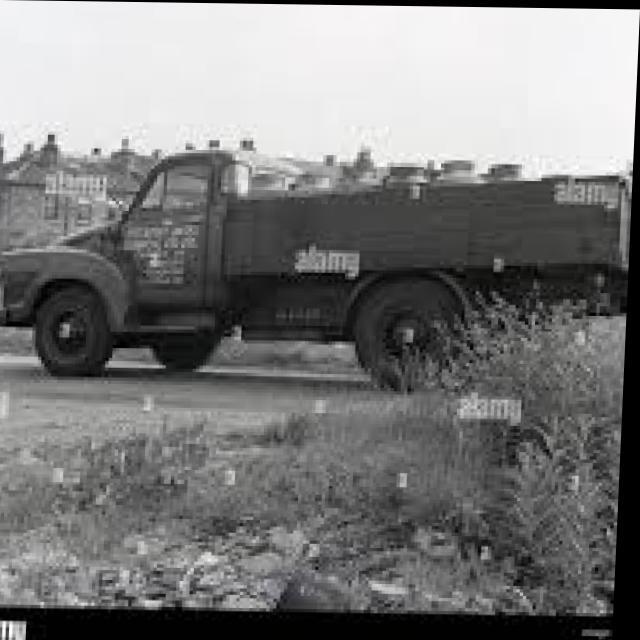uncovered: (0, 144, 635, 393)
